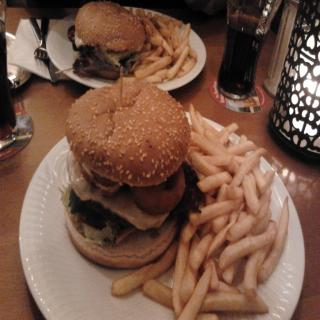French fries: (159, 116, 287, 312), (115, 8, 197, 84)
Hamburger: (60, 78, 190, 269), (74, 0, 143, 75)
